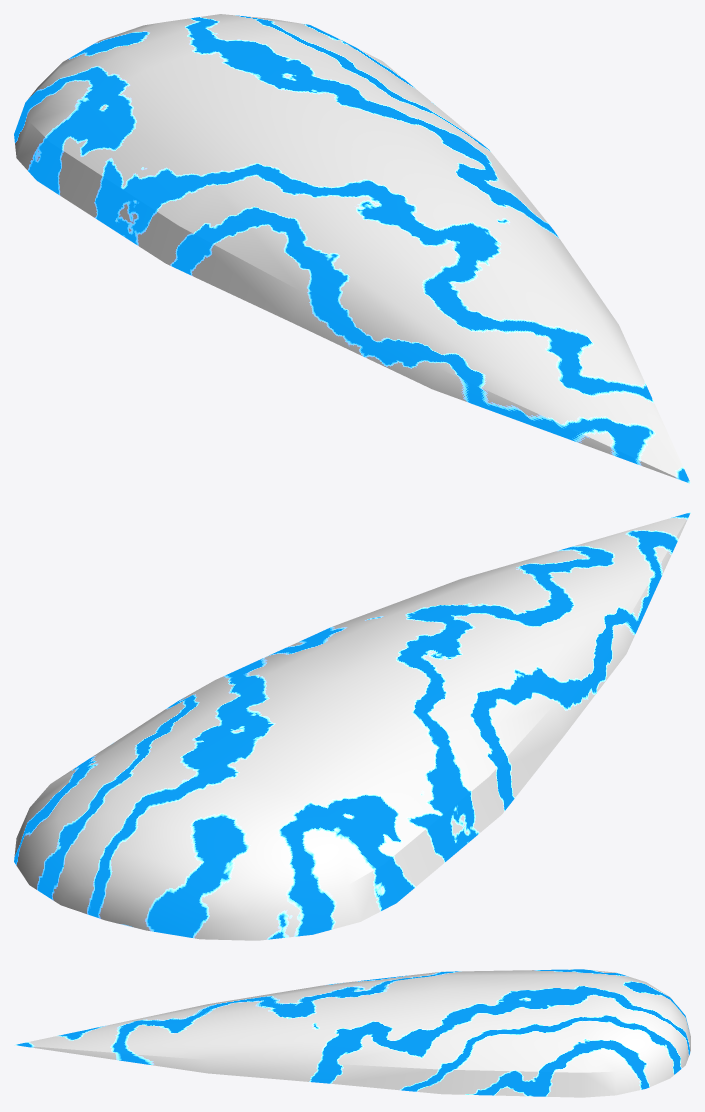
File: SupremeThree.fbx
3 renders of one model, top to bottom at view 1: azimuth 30°, elevation 25°; view 2: azimuth 150°, elevation 25°; view 3: azimuth 270°, elevation 25°, orthographic. The views are drawn at different scales.
Visible parts, largest first — view 1: supreme_3; view 2: supreme_3; view 3: supreme_3.
Part boxes in pixels (<box>): supreme_3: <box>14,14,690,483</box>; supreme_3: <box>14,512,690,940</box>; supreme_3: <box>15,969,690,1097</box>.
Size of the model in its own units: 200 by 544 by 48.35.
